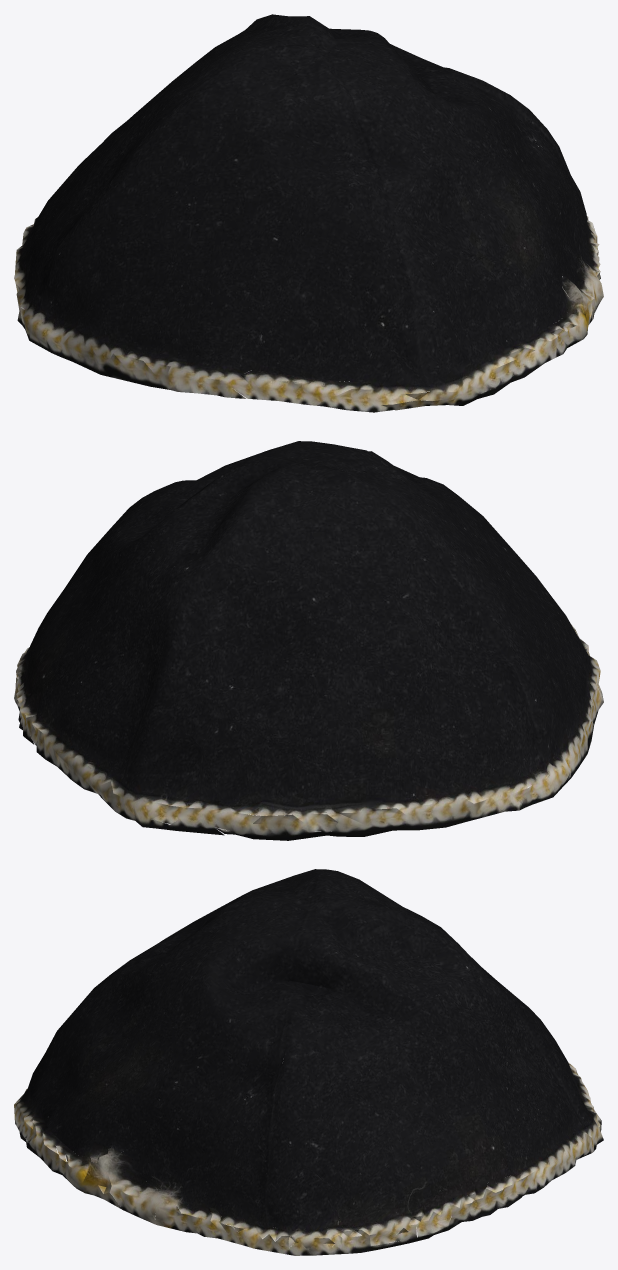
File: skullcap.glb
The picture shows the model from 3 angles, top to bottom: view 1: azimuth 30°, elevation 25°; view 2: azimuth 150°, elevation 25°; view 3: azimuth 270°, elevation 25°; orthographic projection. The views are drawn at different scales.
Parts seen in each view (by area): view 1: Object_2; view 2: Object_2; view 3: Object_2.
Part boxes in pixels (box(x1,y1,x2,y2)): Object_2: box(14, 14, 603, 412); Object_2: box(14, 441, 603, 840); Object_2: box(14, 869, 603, 1255).
Size of the model in its own units: 0.1825 by 0.084 by 0.1867.
Materials: 1 (1 with a texture image).
